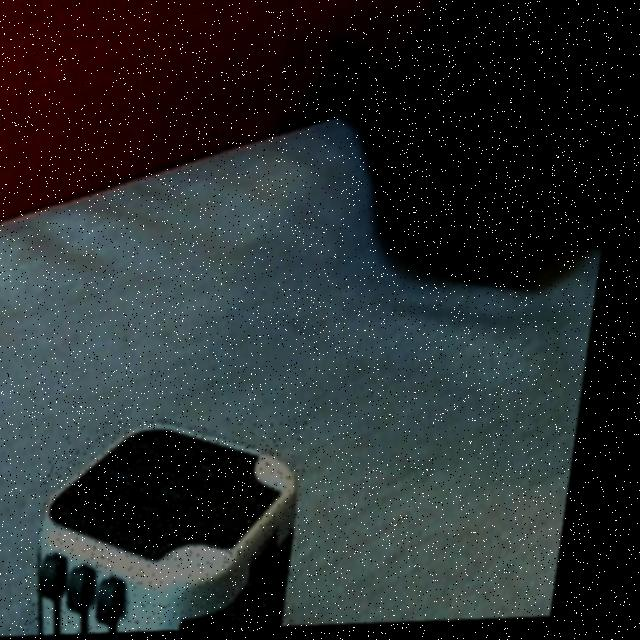adapter: (41, 417, 326, 637)
